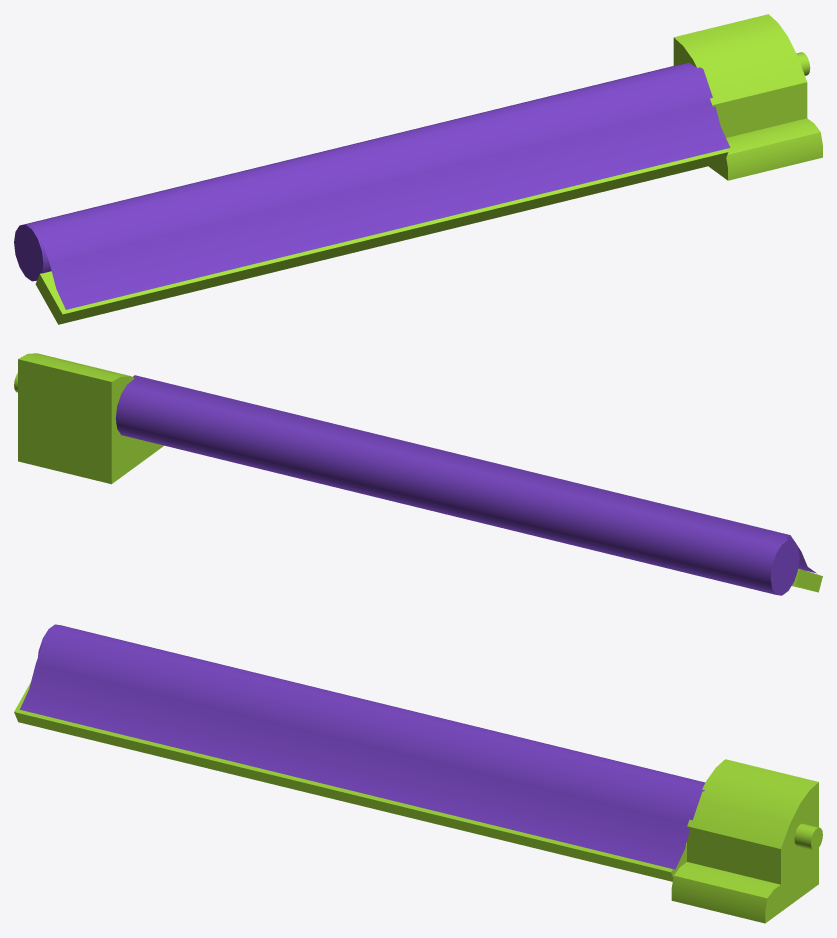
The model's file is cilindroToldo.FBX.
The picture shows the model from 3 angles, top to bottom: view 1: azimuth 30°, elevation 25°; view 2: azimuth 150°, elevation 25°; view 3: azimuth 330°, elevation 25°; orthographic projection.
Visible parts, largest first — view 1: Box001; view 2: Box001; view 3: Box001.
Boxes of the visible parts, bbox=[...] form: Box001: bbox=[14, 14, 822, 324]; Box001: bbox=[14, 353, 822, 595]; Box001: bbox=[14, 624, 822, 923].
Size of the model in its own units: 413 by 52.55 by 50.48.
